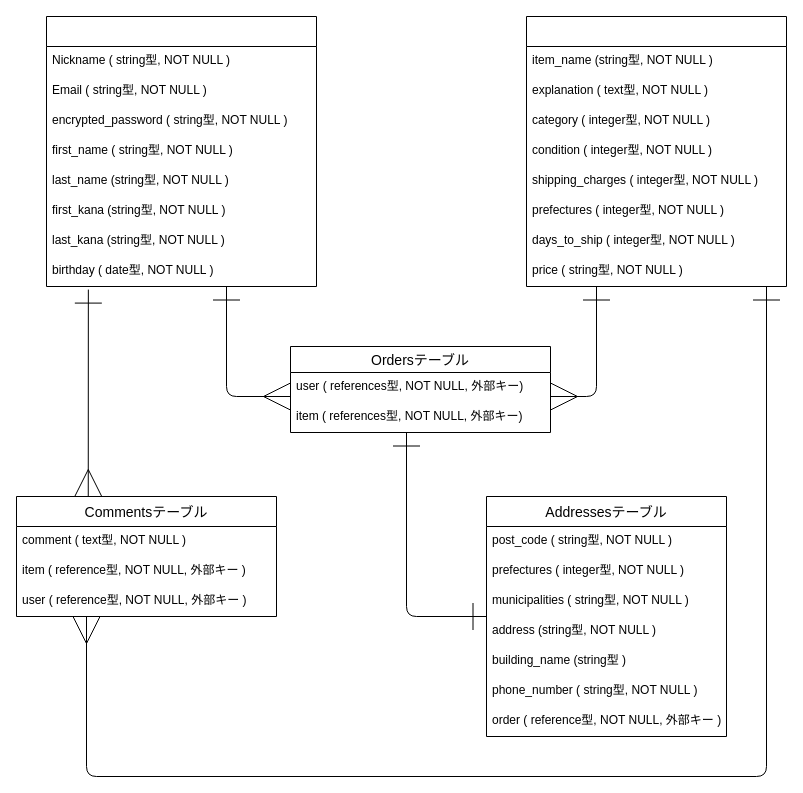
Some shapes in this 803 by 793 pixel diagram are drawn without their labels. Here are the shapes that lost their labels. From the top down, the box of each, then its label:
(46, 16, 316, 286): Usersテーブル
(526, 16, 786, 286): Itemsテーブル
